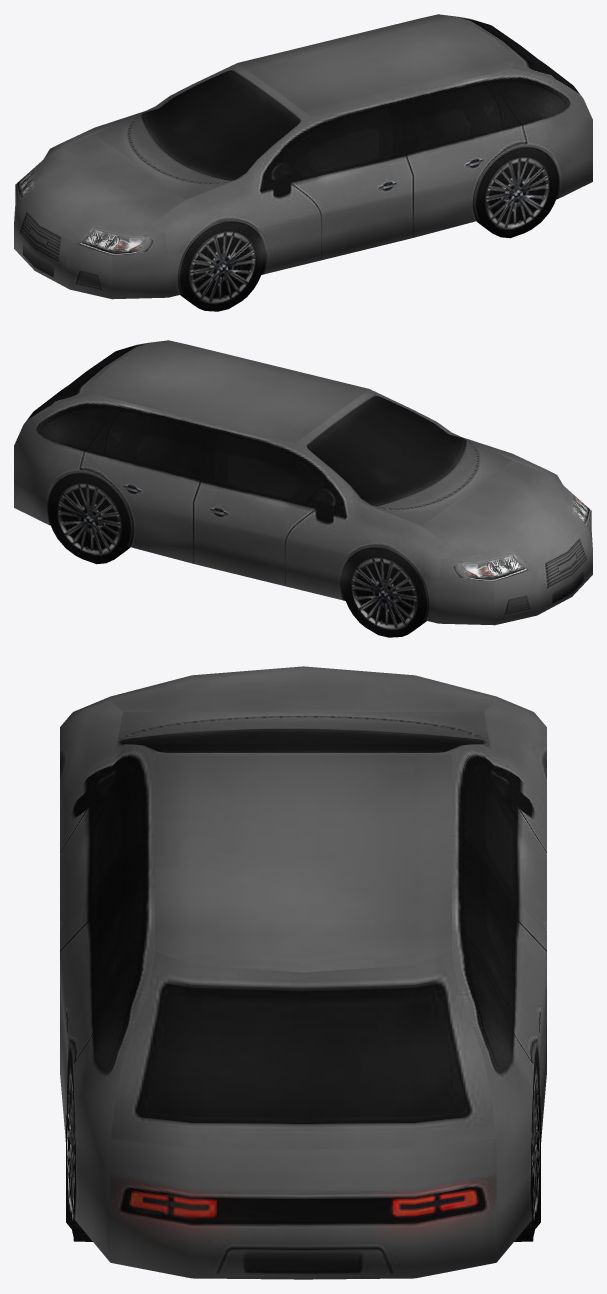
Rendered from CarGray.gltf.
3 renders of one model, top to bottom at view 1: azimuth 30°, elevation 25°; view 2: azimuth 150°, elevation 25°; view 3: azimuth 270°, elevation 25°, orthographic. The views are drawn at different scales.
Parts seen in each view (by area): view 1: CarGray; view 2: CarGray; view 3: CarGray.
Part boxes in pixels (x1,y1,x2,y2): CarGray: (14, 14, 592, 311); CarGray: (14, 340, 592, 637); CarGray: (60, 666, 546, 1279).
Size of the model in its own units: 42.43 by 11.44 by 16.97.
Materials: 1 (1 with a texture image).
